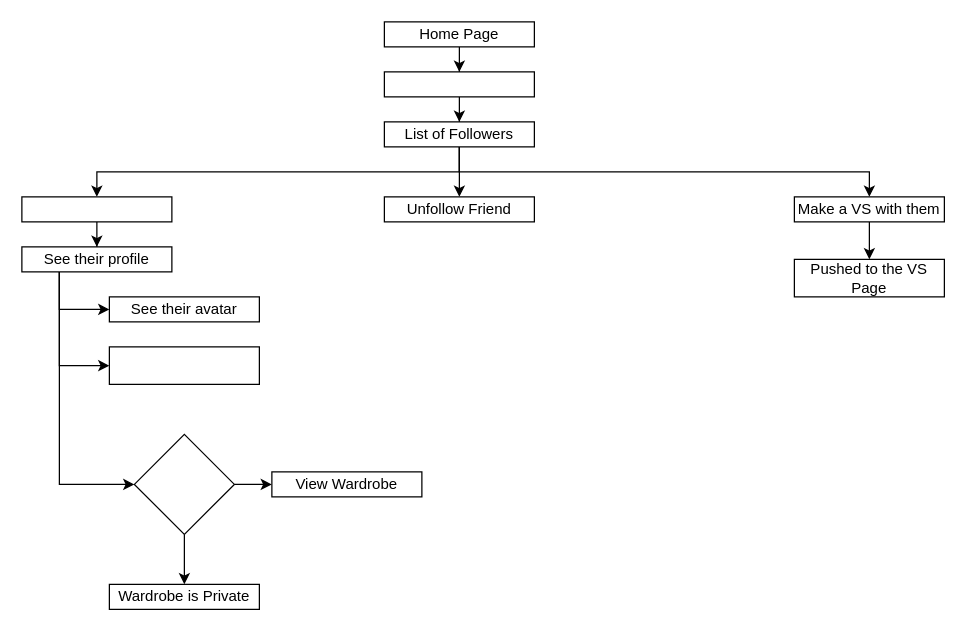
This 966x631 diagram has some shape labels left out. The centre of each missing label's shape, as x and y in pixels:
Followers: point 458,84
Garderob Public?: point 183,483
See followers & followings: point 183,365
Tap Friend: point 96,209
